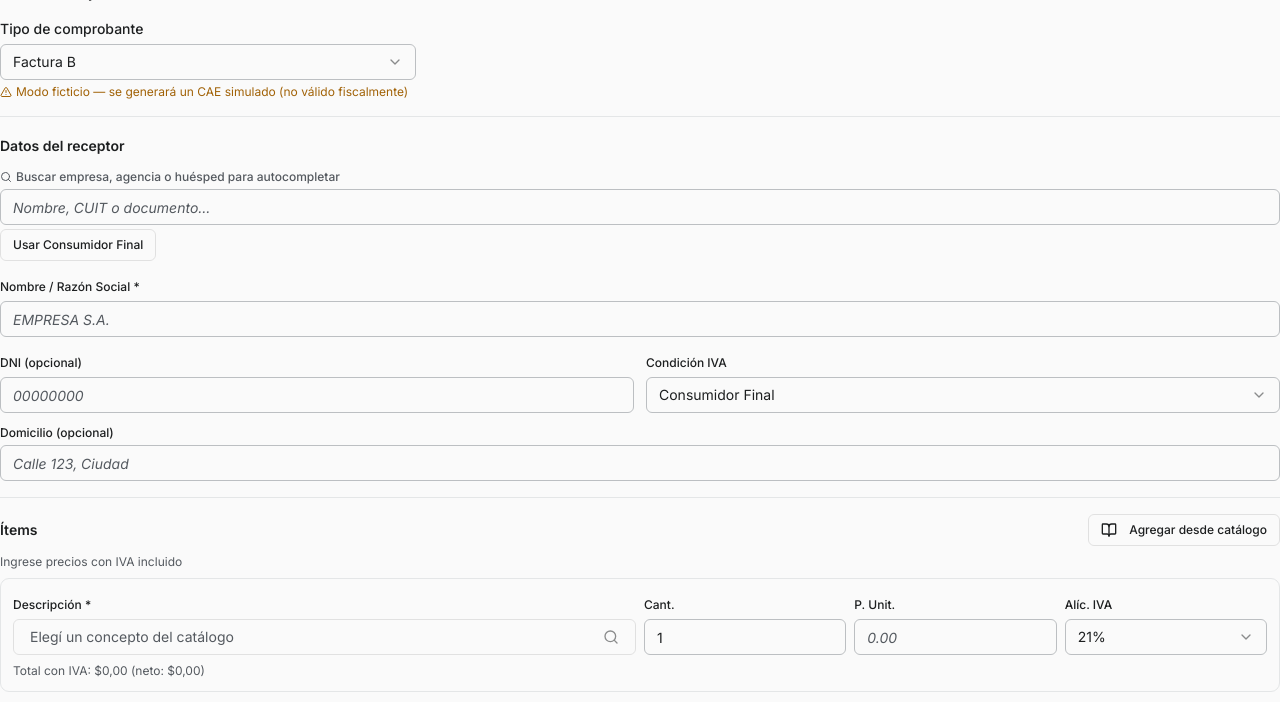
Test: Centro de Comprobantes — receptor vinculado › no avanza al revisar con un nombre escrito sin elegir una ficha
Type "Nombre suelto" into the field with test id "input-razon-social". click: (640,319)
box: [0,301,1279,337]
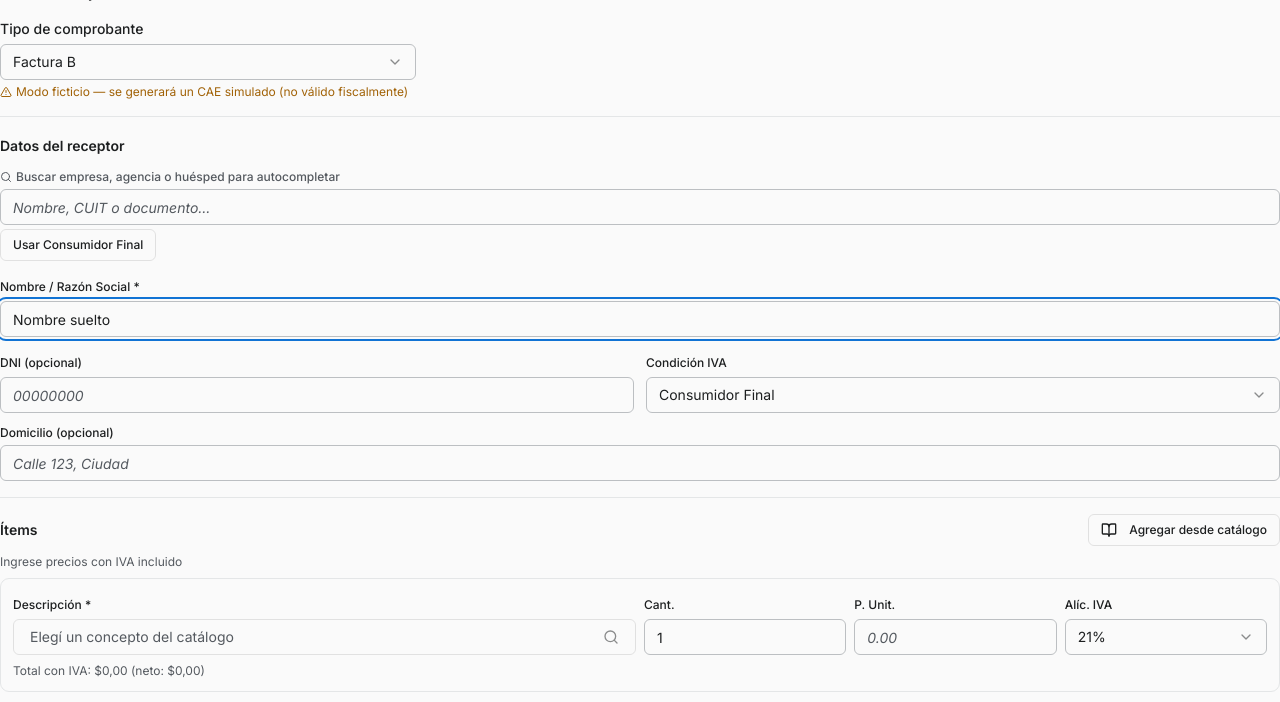
Click the dropdown with test id "item-description-0". click: (132,636)
box: [13,619,636,655]
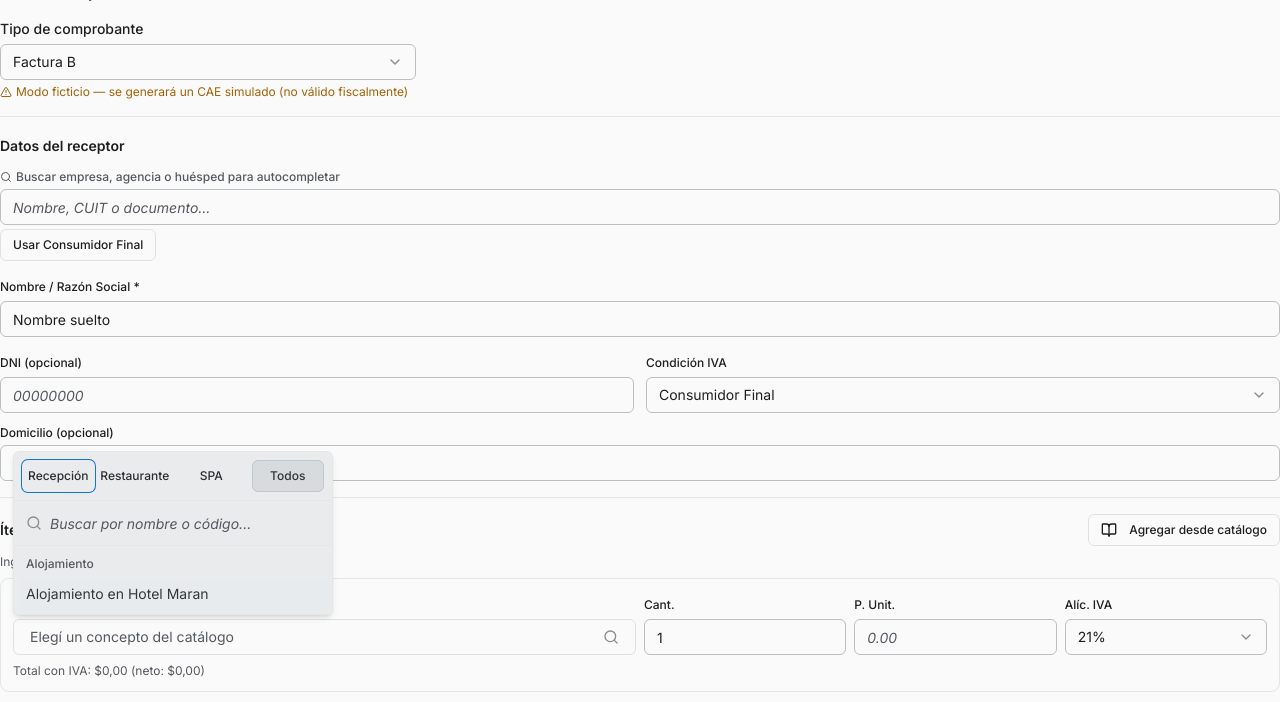
Click the option with test id "item-catalog-option-0-alojamiento". click: (173,594)
box: [18,578,328,610]
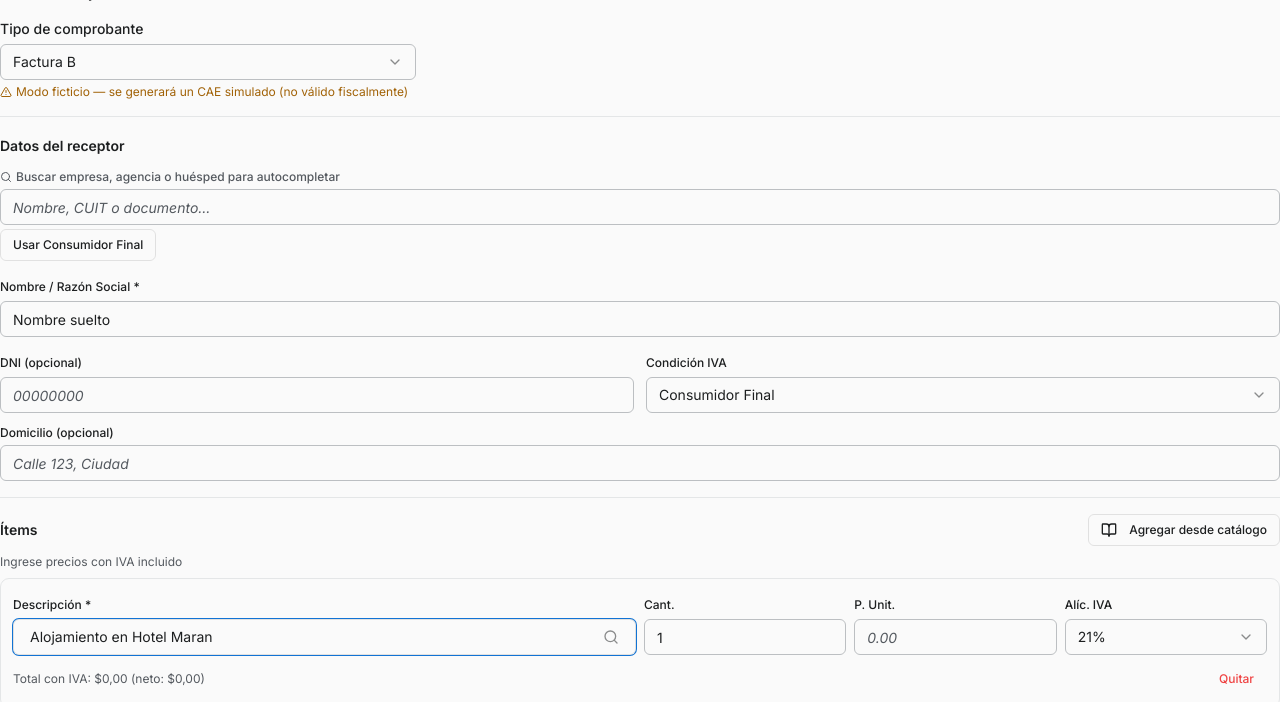
Type "100" into the number field with test id "item-price-0". click: (955,637)
box: [854,619,1057,655]
(page scrolled)
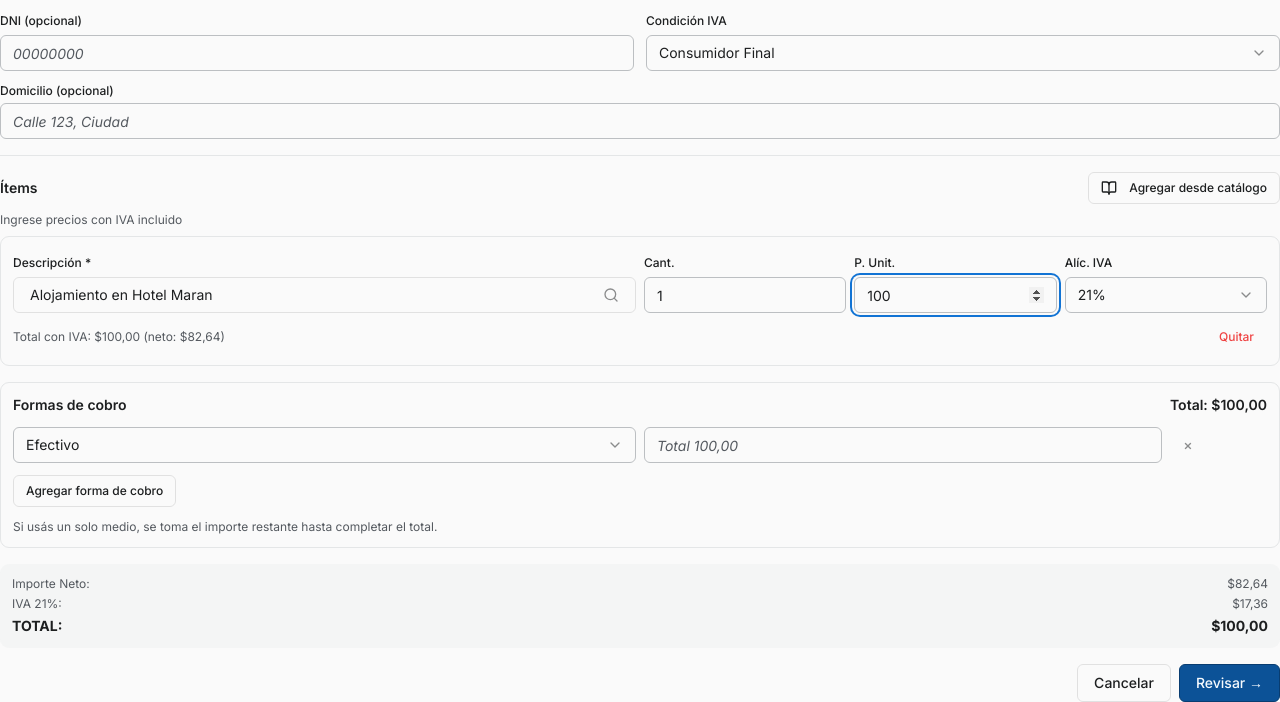
Click the button with test id "btn-emitir-confirmar". click: (1230,683)
box: [1179,664,1279,701]
(page scrolled)
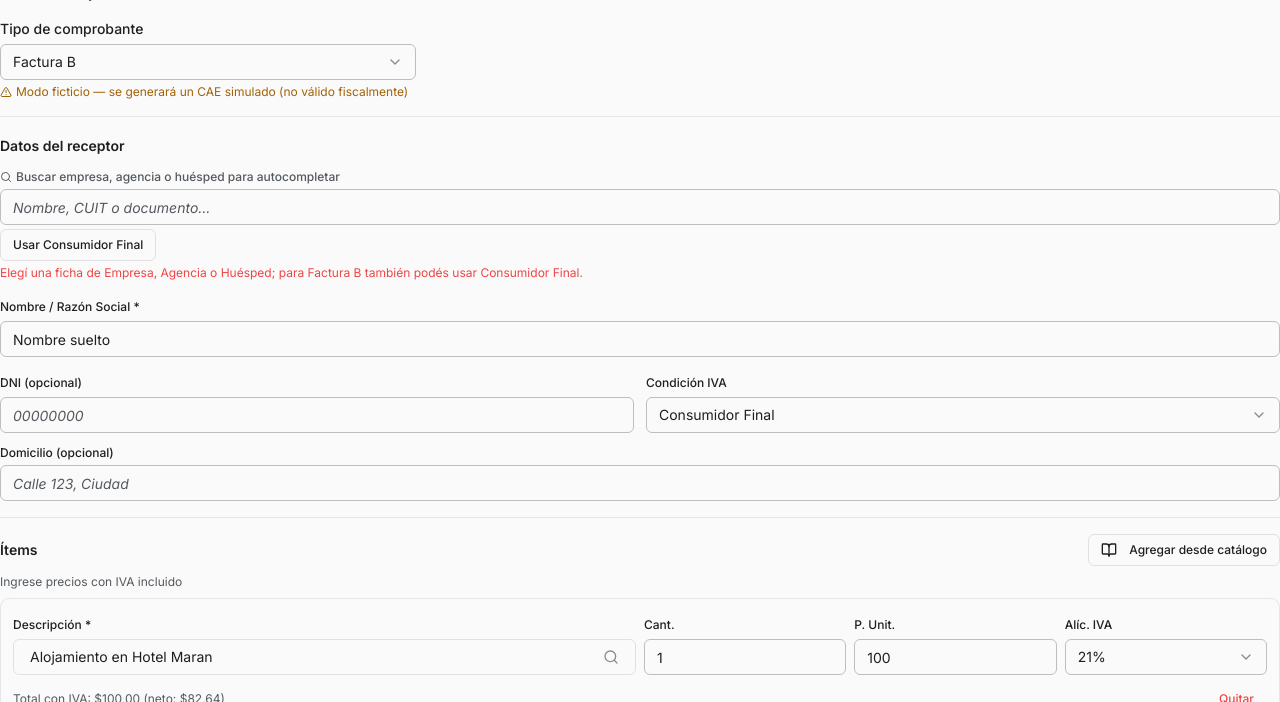
Now the text with test id "recipient-entity-error" is shown, box [0,265,583,280]
